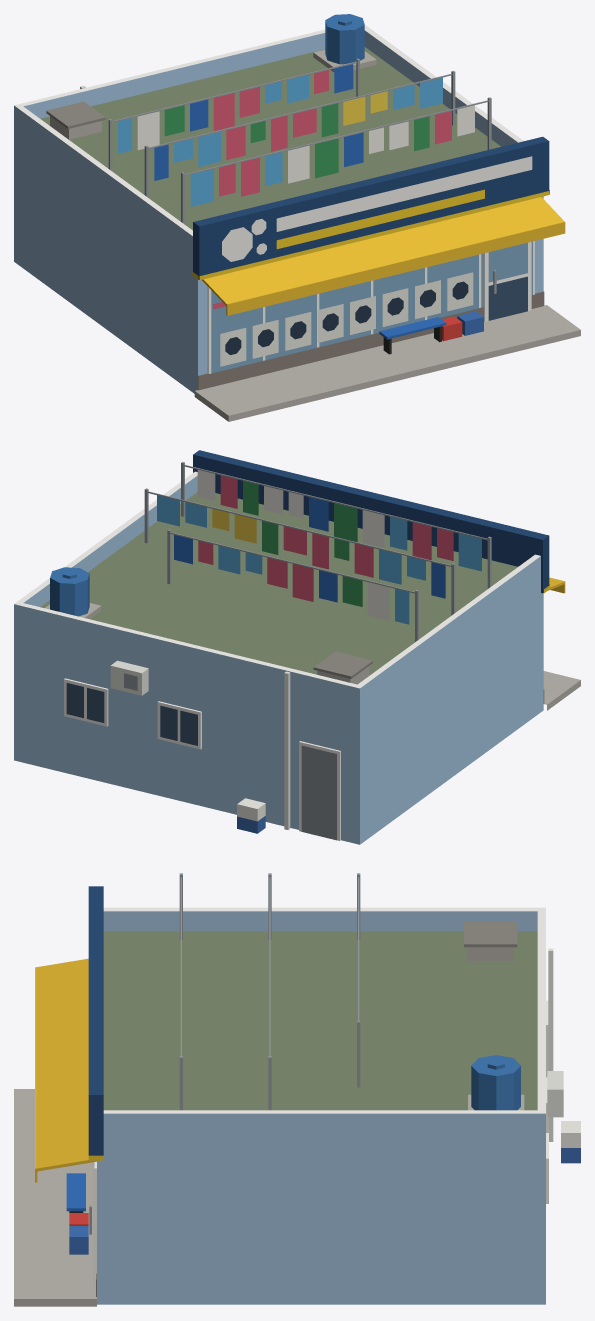
File: toko_10.glb
3 renders of one model, top to bottom at view 1: azimuth 30°, elevation 25°; view 2: azimuth 150°, elevation 25°; view 3: azimuth 270°, elevation 25°, orthographic. The views are drawn at different scales.
Visible parts, largest first — view 1: toko_10; view 2: toko_10; view 3: toko_10.
Boxes of the visible parts, <box> form: toko_10: <box>14,14,580,421</box>; toko_10: <box>14,450,580,844</box>; toko_10: <box>14,873,580,1306</box>.
Bounding box in the file's own units: 8.96 × 4.7 × 10.23.
